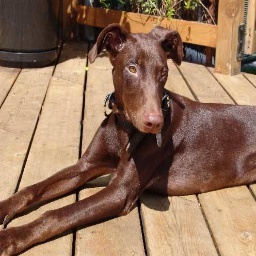dog: (5, 23, 252, 248)
